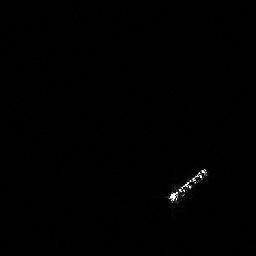ship: (159, 166, 212, 205)
